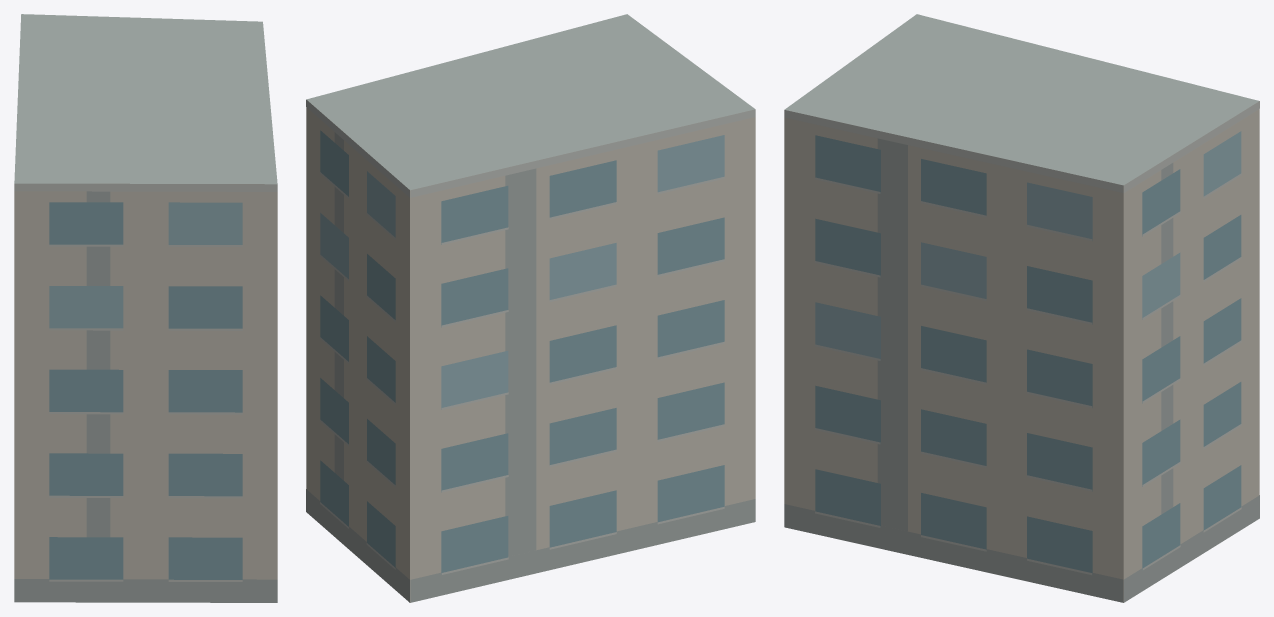
File: survey-upis-32678196.glb
3 views of the same model, side by side, from view 1: azimuth 30°, elevation 25°; view 2: azimuth 150°, elevation 25°; view 3: azimuth 270°, elevation 25° (orthographic).
Visible parts, largest first — view 1: survey-upis-32678196.tmp; view 2: survey-upis-32678196.tmp; view 3: survey-upis-32678196.tmp.
Part boxes in pixels (x1,y1,x2,y2): survey-upis-32678196.tmp: (14,14,277,602); survey-upis-32678196.tmp: (306,14,755,602); survey-upis-32678196.tmp: (784,14,1259,602).
Bounding box in the file's own units: 11.55 × 13.1 × 13.53.
